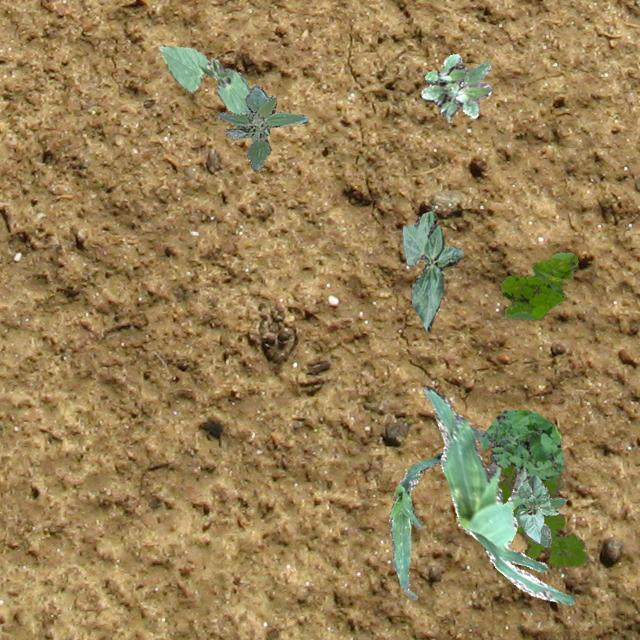crop: (422, 384, 574, 604), (158, 44, 268, 134), (388, 452, 442, 598), (402, 210, 462, 330), (516, 472, 558, 544)
weed: (497, 462, 588, 566), (216, 84, 308, 170), (478, 408, 564, 479), (498, 252, 578, 318), (419, 52, 492, 121), (514, 496, 566, 546)
